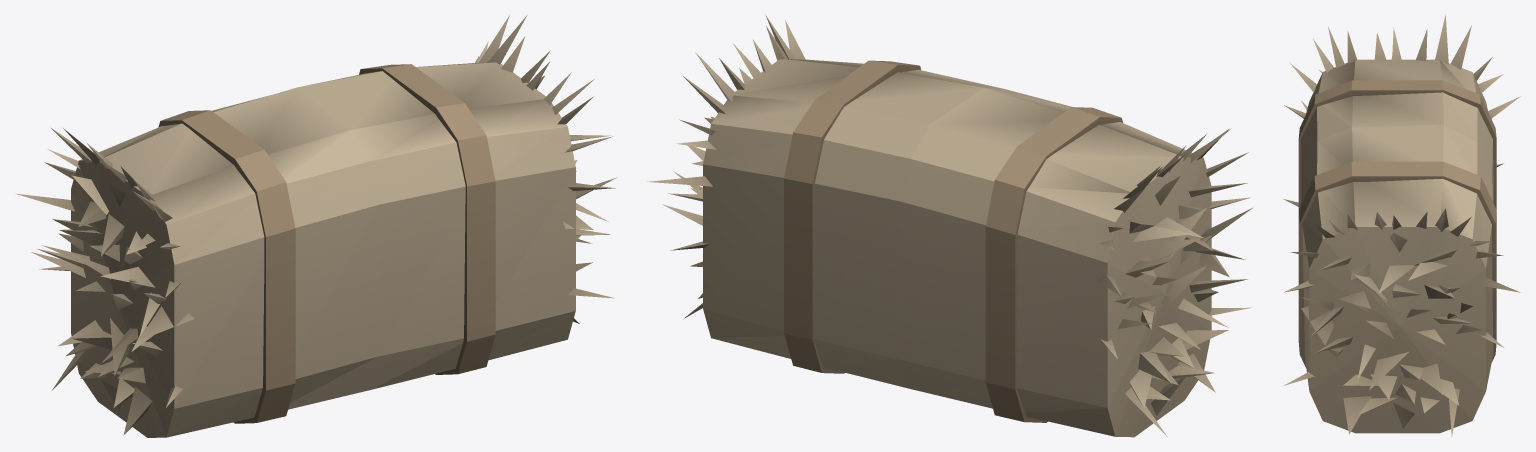
File: hay.glb
The picture shows the model from 3 angles, left to right: view 1: azimuth 30°, elevation 25°; view 2: azimuth 150°, elevation 25°; view 3: azimuth 270°, elevation 25°; orthographic projection. The views are drawn at different scales.
Parts seen in each view (by area): view 1: hay; view 2: hay; view 3: hay.
Part boxes in pixels (x1,y1,x2,y2): hay: (15, 15, 616, 437); hay: (646, 15, 1252, 437); hay: (1283, 15, 1520, 436).
Size of the model in its own units: 1.5 by 0.8248 by 0.736.
